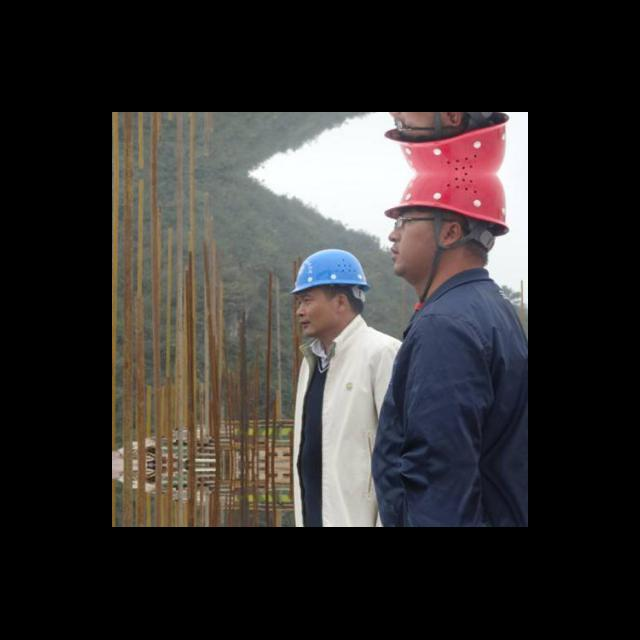Hardhat: (382, 120, 509, 178), (386, 175, 510, 232), (289, 250, 370, 294)
NO-Mask: (391, 235, 448, 280), (299, 313, 339, 337)
NO-Safety Vest: (375, 294, 528, 527), (299, 338, 393, 528)
Person: (375, 174, 528, 526), (290, 248, 404, 528), (385, 112, 508, 148)
